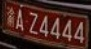A: (16, 9, 24, 31)
